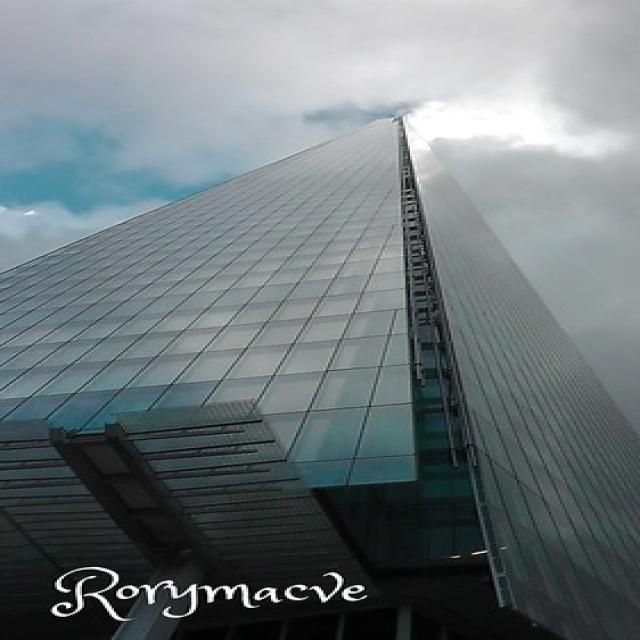building: (11, 108, 640, 638)
